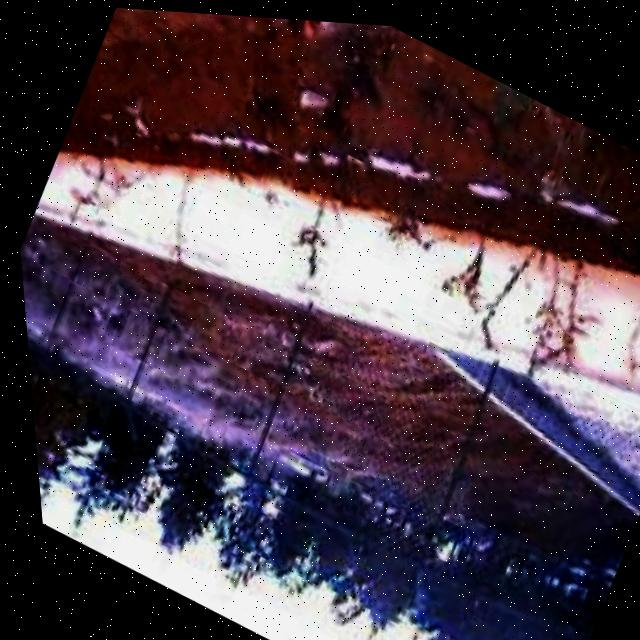Fire: (260, 14, 342, 53)
